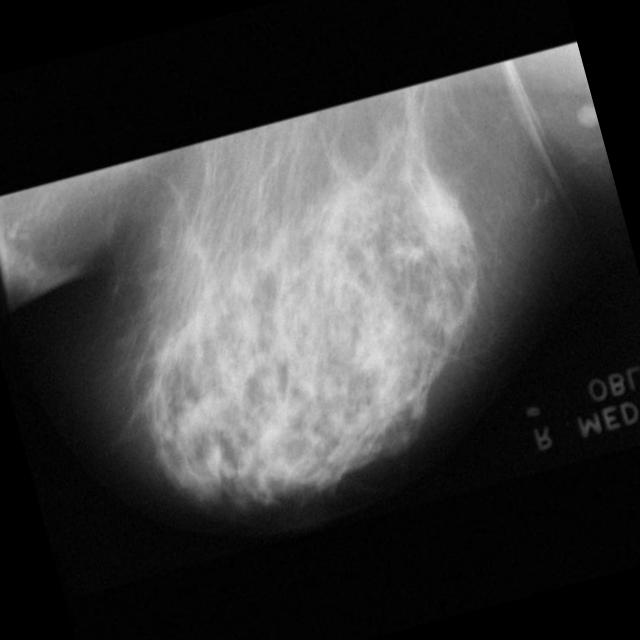MISC: (388, 157, 490, 259)
